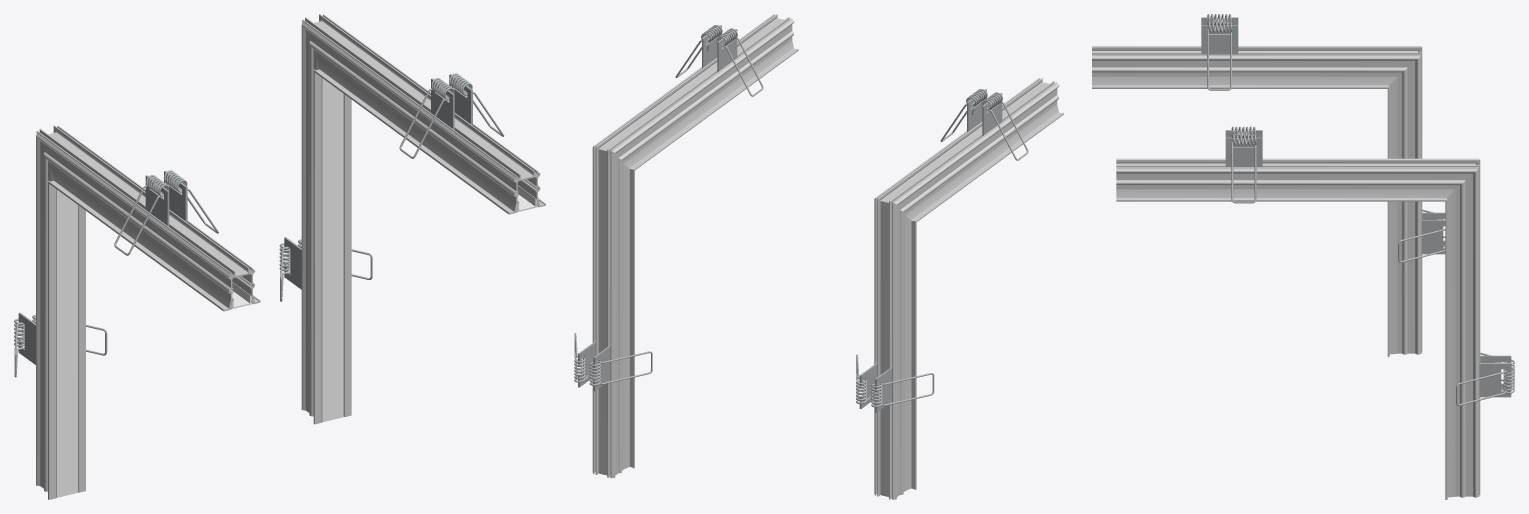
The model's file is Fit15StandardEmbutido-curva-teto-parede.glb.
The picture shows the model from 3 angles, left to right: view 1: azimuth 30°, elevation 25°; view 2: azimuth 150°, elevation 25°; view 3: azimuth 270°, elevation 25°; orthographic projection. The views are drawn at different scales.
Visible parts, largest first — view 1: 3DGeom-13 (×2), 3DGeom-1 (×2), 3DGeom-15, 3DGeom-7, 3DGeom-3 (×3), 3DGeom-17 (×3), 3DGeom-4, 3DGeom-18; view 2: 3DGeom-13 (×2), 3DGeom-1 (×2), 3DGeom-4, 3DGeom-18; view 3: 3DGeom-13 (×2), 3DGeom-1 (×2), 3DGeom-17 (×2), 3DGeom-3 (×2), 3DGeom-18 (×2), 3DGeom-4.
Boxes of the visible parts, box(x1,y1,x2,y2) form: 3DGeom-13 (×2): box(301, 14, 545, 424); 3DGeom-1 (×2): box(36, 125, 260, 499); 3DGeom-15: box(321, 78, 343, 422); 3DGeom-7: box(56, 189, 78, 497); 3DGeom-3 (×3): box(18, 171, 187, 364); 3DGeom-17 (×3): box(284, 74, 472, 289); 3DGeom-4: box(114, 175, 169, 255); 3DGeom-18: box(399, 78, 454, 158); 3DGeom-13 (×2): box(592, 14, 798, 478); 3DGeom-1 (×2): box(874, 78, 1063, 499); 3DGeom-4: box(871, 373, 934, 407); 3DGeom-18: box(589, 351, 652, 385); 3DGeom-13 (×2): box(1116, 158, 1480, 499); 3DGeom-1 (×2): box(1092, 46, 1422, 356); 3DGeom-17 (×2): box(1225, 137, 1511, 397); 3DGeom-3 (×2): box(1201, 25, 1445, 254); 3DGeom-18 (×2): box(1231, 134, 1514, 405); 3DGeom-4: box(1207, 21, 1231, 90).
Size of the model in its own units: 0.2636 by 0.2738 by 0.2906.
Materials: 3 (1 with a texture image).
